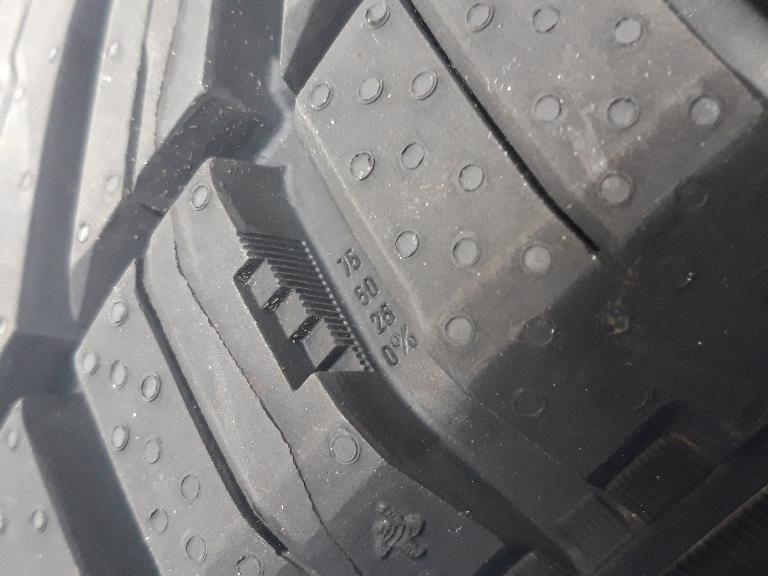temoin:100: (224, 224, 385, 399)
